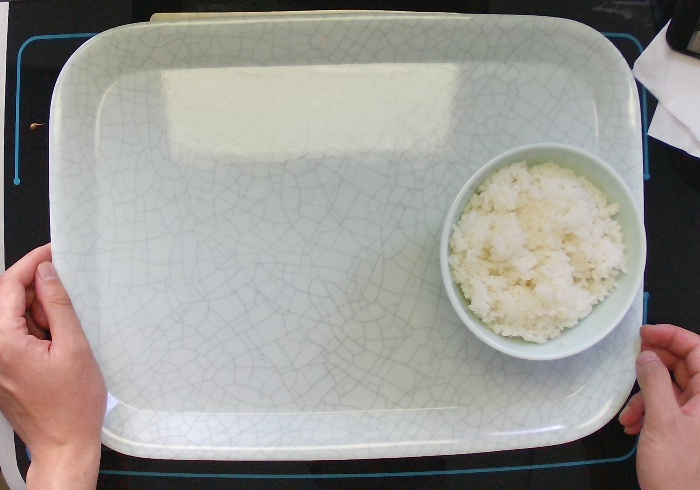JYsf-Fan_Wan: (424, 138, 655, 366)
